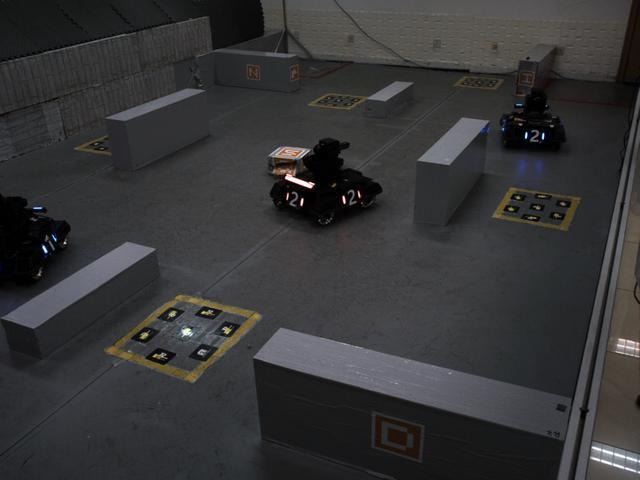armor: (34, 227, 63, 258), (280, 183, 309, 213), (338, 188, 363, 210), (522, 127, 548, 148)
